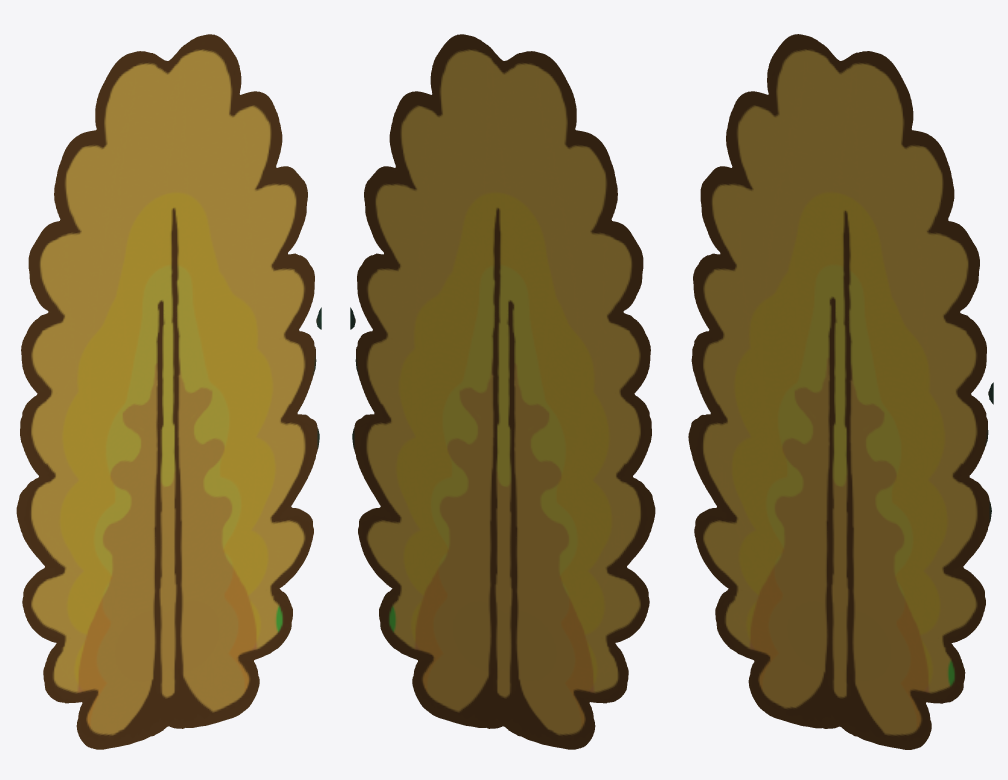
The model's file is HojaM.fbx.
3 renders of one model, left to right at view 1: azimuth 30°, elevation 25°; view 2: azimuth 150°, elevation 25°; view 3: azimuth 330°, elevation 25°, orthographic.
Visible parts, largest first — view 1: HojaM; view 2: HojaM; view 3: HojaM.
Boxes of the visible parts, x1,y1,x2,y2 form: HojaM: [16, 34, 321, 749]; HojaM: [350, 34, 655, 749]; HojaM: [688, 34, 993, 749].
Bounding box in the file's own units: 0.5462 × 1.18 × 5.16e-08.
